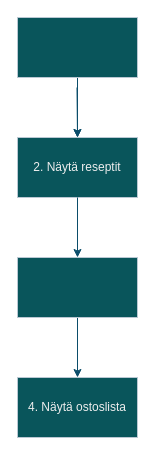
Image size: 155x455. Some labels were removed from this diagram. The shapes that lost their labels are listed below. From the top down, each one's centre as x and y in pixels, then its label:
At pixel 77 47: "1. Lisää resepti".
At pixel 77 287: "3. Luo ruokalista".
